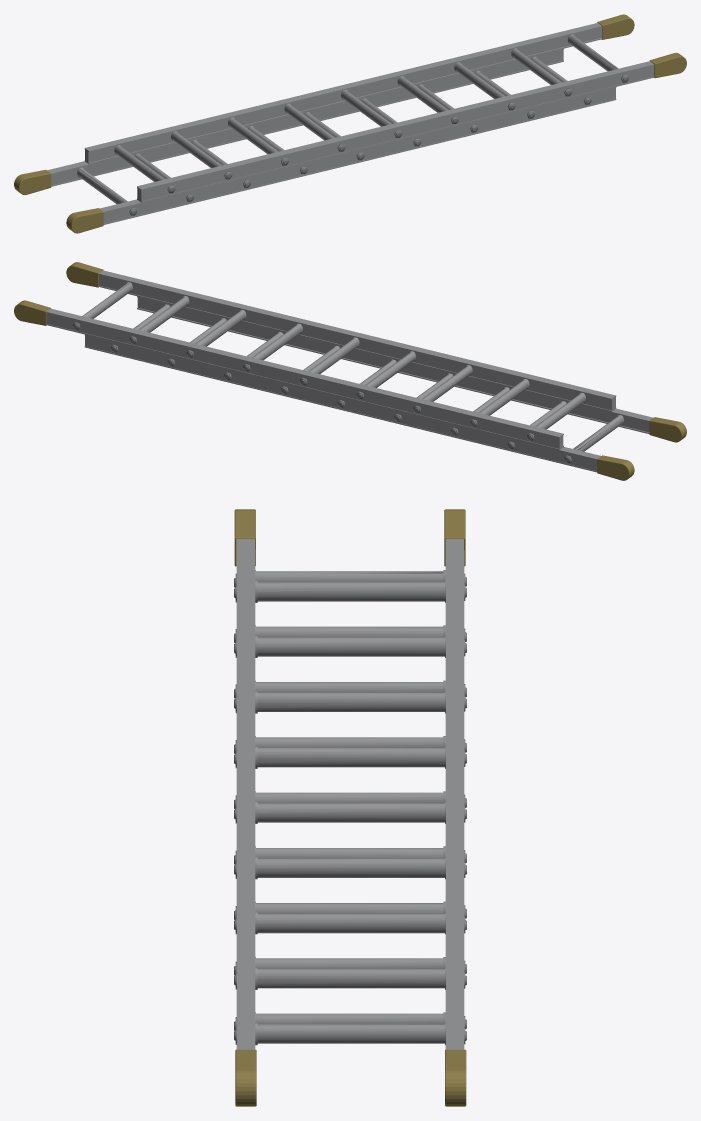
Rendered from Ladder.fbx.
3 views of the same model, one above another, from view 1: azimuth 30°, elevation 25°; view 2: azimuth 150°, elevation 25°; view 3: azimuth 270°, elevation 25° (orthographic). The views are drawn at different scales.
Visible parts, largest first — view 1: polySurface36, pCube17, polySurface37, polySurface67, polySurface74, polySurface88, polySurface68, polySurface79, polySurface64, polySurface71, polySurface82, polySurface60 (+1 smaller); view 2: polySurface36, pCube17, polySurface37, polySurface85, polySurface60, polySurface67, polySurface68, polySurface71, polySurface82, polySurface64, polySurface88, polySurface74 (+1 smaller); view 3: polySurface36, pCube17, polySurface67, polySurface64, polySurface68, polySurface71, polySurface74, polySurface79, polySurface82, polySurface85, polySurface88, polySurface39 (+9 smaller).
Part boxes in pixels (box(x1,y1,x2,y2)): polySurface36: box(47, 23, 654, 224); pCube17: box(14, 14, 686, 233); polySurface37: box(129, 75, 628, 215); polySurface67: box(454, 62, 504, 98); polySurface74: box(567, 34, 618, 71); polySurface88: box(114, 145, 165, 181); polySurface68: box(397, 76, 448, 112); polySurface79: box(284, 103, 335, 140); polySurface64: box(341, 89, 391, 126); polySurface71: box(511, 48, 561, 84); polySurface82: box(228, 117, 278, 154); polySurface60: box(77, 167, 127, 204); polySurface36: box(46, 270, 653, 472); pCube17: box(14, 262, 686, 480); polySurface37: box(72, 322, 571, 463); polySurface85: box(479, 378, 529, 415); polySurface60: box(573, 414, 623, 451); polySurface67: box(195, 309, 246, 346); polySurface68: box(252, 323, 302, 360); polySurface71: box(139, 295, 189, 332); polySurface82: box(422, 365, 472, 401); polySurface64: box(309, 337, 359, 373); polySurface88: box(535, 392, 585, 429); polySurface74: box(82, 282, 132, 318); polySurface36: box(236, 539, 464, 1049); pCube17: box(234, 509, 466, 1106); polySurface67: box(255, 912, 445, 934); polySurface64: box(255, 801, 445, 823); polySurface68: box(255, 857, 445, 879); polySurface71: box(255, 967, 445, 989); polySurface74: box(255, 1023, 445, 1045); polySurface79: box(255, 746, 445, 768); polySurface82: box(255, 691, 445, 713); polySurface85: box(255, 635, 445, 657); polySurface88: box(255, 580, 445, 602); polySurface39: box(255, 1012, 445, 1024).
Size of the model in its own units: 4.91 by 0.2296 by 0.8044.
